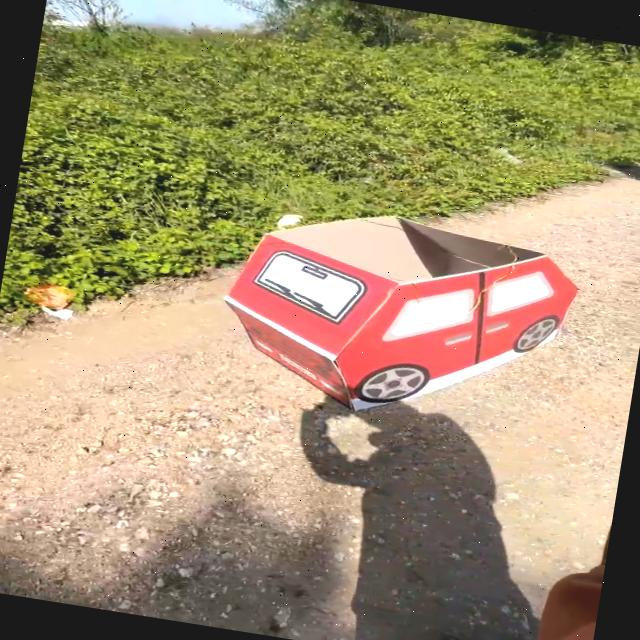red_car: (154, 167, 583, 453)
